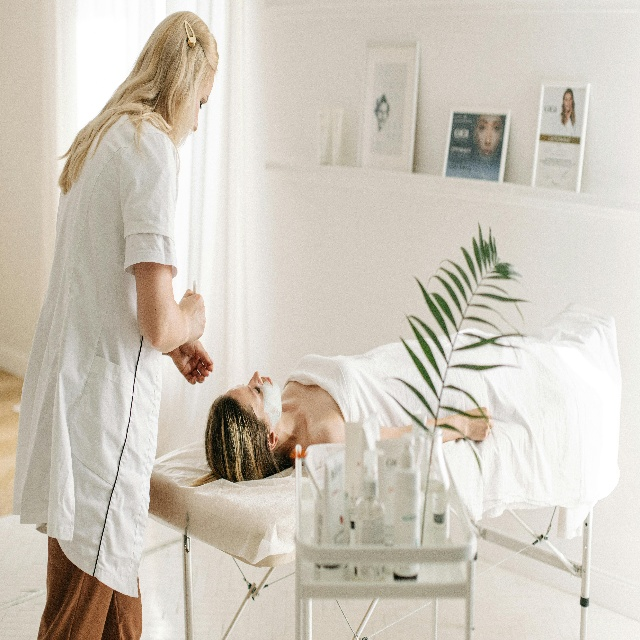Sin_guantes: (170, 336, 215, 385), (178, 286, 206, 343), (463, 405, 494, 442)
